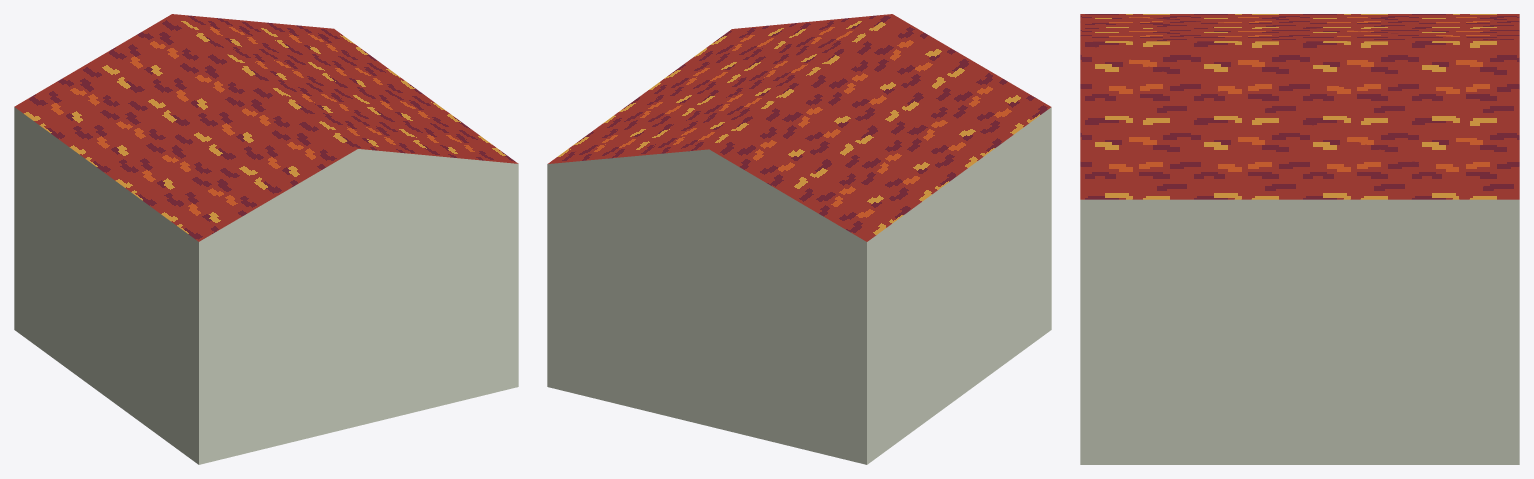
File: Generic Building2.glb
3 views of the same model, side by side, from view 1: azimuth 30°, elevation 25°; view 2: azimuth 150°, elevation 25°; view 3: azimuth 270°, elevation 25° (orthographic). The views are drawn at different scales.
Visible parts, largest first — view 1: GenericBuilding2-col; view 2: GenericBuilding2-col; view 3: GenericBuilding2-col.
Boxes of the visible parts, x1=… form: GenericBuilding2-col: x1=14, y1=14, x2=518, y2=464; GenericBuilding2-col: x1=547, y1=14, x2=1051, y2=464; GenericBuilding2-col: x1=1080, y1=14, x2=1519, y2=464.
Size of the model in its own units: 4.38 by 3.63 by 4.38.
Materials: 2 (1 with a texture image).
